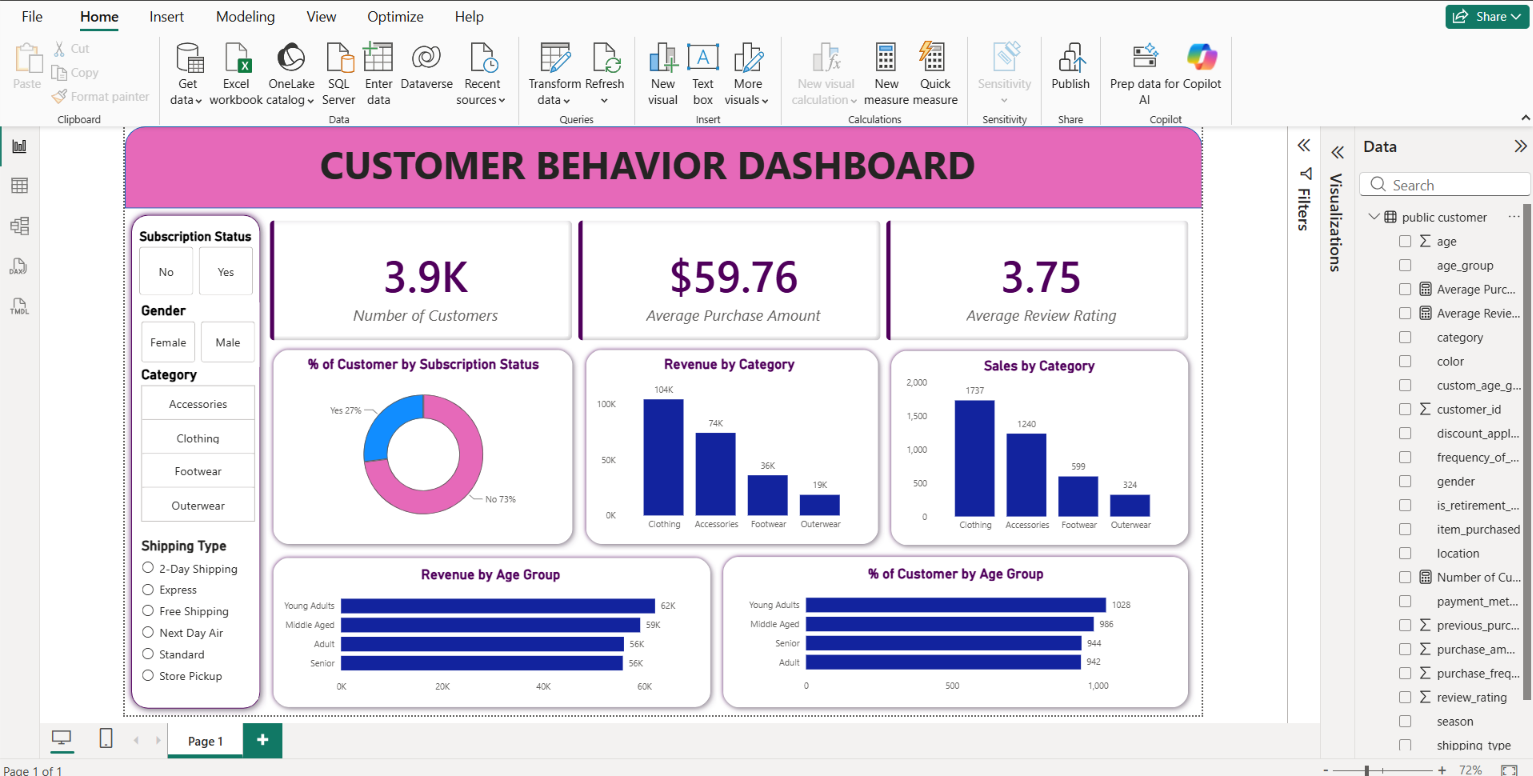

The dashboard page shown, as its layout file describes it:
{"tool":"powerbi","page":{"name":"Page 1","canvas":[1500,820],"ordinal":0},"visuals":[{"type":"cardVisual","fields":{"Data":["public customer.Number of Customers","public customer.Average Purchase Amount","public customer.Average Review Rating"]},"box":[185.9,114.2,1314.4,202],"z":0},{"type":"shape","box":[0,0,1500.3,114.2],"z":1000},{"type":"textbox","box":[0,11.7,1456.4,103.9],"z":2000},{"type":"shape","box":[197.6,301.5,434.7,288.3],"z":3000},{"type":"donutChart","title":"% of Customer by Subscription Status","fields":{"Category":["public customer.subscription_status"],"Y":["CountNonNull(public customer.customer_id)"]},"box":[222.5,320.6,386.4,251.8],"z":3001},{"type":"shape","box":[633.1,301.5,424.5,288.3],"z":3002},{"type":"shape","box":[1058.3,303,431.8,288.3],"z":3003},{"type":"clusteredColumnChart","title":"Revenue by Category","fields":{"Y":["Sum(public customer.purchase_amount)"],"Category":["public customer.category"]},"box":[651.3,320.6,380.6,251.8],"z":3004},{"type":"clusteredColumnChart","title":"Sales by Category","fields":{"Y":["CountNonNull(public customer.customer_id)"],"Category":["public customer.category"]},"box":[1083.1,322,380.6,251.8],"z":3005},{"type":"shape","box":[0,114.2,197.6,705.5],"z":3006},{"type":"advancedSlicerVisual","title":"Subscription Status","fields":{"Values":["public customer.subscription_status"]},"box":[15.8,141.8,169.8,98],"z":3007},{"type":"advancedSlicerVisual","title":"Gender","fields":{"Values":["public customer.gender"]},"box":[17.5,245.1,169.8,89.3],"z":3008},{"type":"advancedSlicerVisual","title":"Category","fields":{"Values":["public customer.category"]},"box":[17.5,334.4,168.1,224.1],"z":3009},{"type":"listSlicer","title":"Shipping Type","fields":{"Values":["public customer.shipping_type"]},"box":[17.5,572.5,168.1,225.8],"z":3010},{"type":"shape","box":[197.8,591.7,626.8,225.8],"z":3011},{"type":"shape","box":[824.6,590,665.3,227.6],"z":3012},{"type":"clusteredBarChart","title":"Revenue by Age Group","fields":{"Category":["public customer.age_group"],"Y":["Sum(public customer.purchase_amount)"]},"box":[210.1,612.7,598.7,185.6],"z":3013},{"type":"clusteredBarChart","title":"% of Customer by Age Group","fields":{"Category":["public customer.age_group"],"Y":["CountNonNull(public customer.customer_id)"]},"box":[857.8,611,598.7,185.6],"z":3014}]}

Visuals, with their boxes on the page's 1500x820 design canvas (x1, y1, x2, y2). These are canvas units, not pixel positions in the 1533x776 screenshot, which may show the page scaled, cropped or inside an application window:
cardVisual - public customer.Number of Customers x public customer.Average Purchase Amount: 186, 114, 1500, 316
shape: 0, 0, 1500, 114
textbox: 0, 12, 1456, 116
shape: 198, 302, 632, 590
"% of Customer by Subscription Status" donutChart: 222, 321, 609, 572
shape: 633, 302, 1058, 590
shape: 1058, 303, 1490, 591
"Revenue by Category" clusteredColumnChart: 651, 321, 1032, 572
"Sales by Category" clusteredColumnChart: 1083, 322, 1464, 574
shape: 0, 114, 198, 820
"Subscription Status" advancedSlicerVisual: 16, 142, 186, 240
"Gender" advancedSlicerVisual: 18, 245, 187, 334
"Category" advancedSlicerVisual: 18, 334, 186, 558
"Shipping Type" listSlicer: 18, 572, 186, 798
shape: 198, 592, 825, 818
shape: 825, 590, 1490, 818
"Revenue by Age Group" clusteredBarChart: 210, 613, 809, 798
"% of Customer by Age Group" clusteredBarChart: 858, 611, 1456, 797
